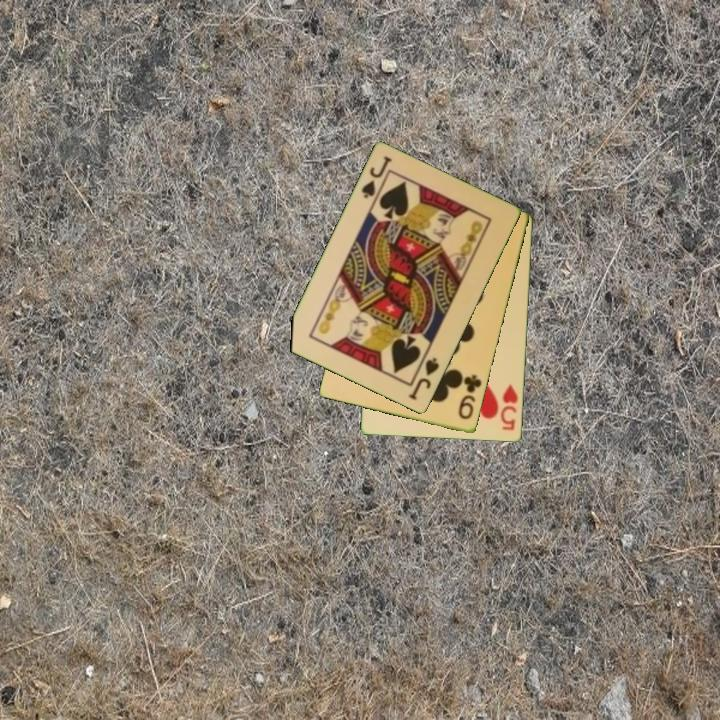5h: (497, 381, 521, 433)
9c: (455, 371, 485, 423)
Js: (405, 354, 443, 403), (358, 153, 395, 202)
